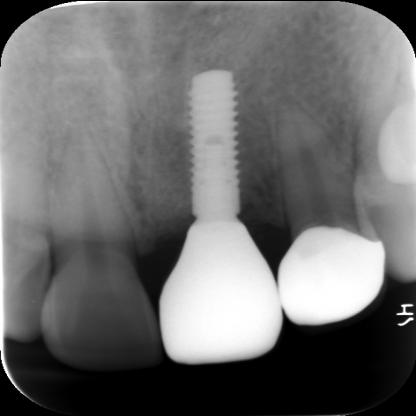ITI: (154, 51, 274, 224)
